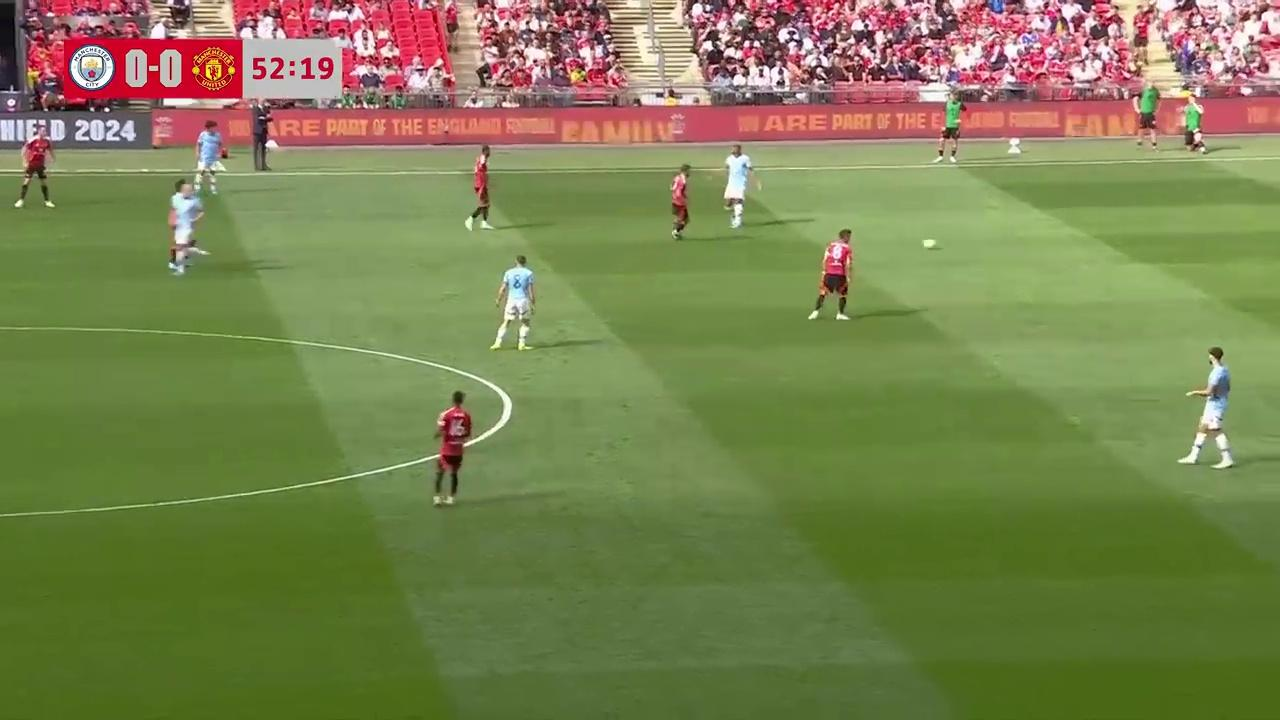ball: (919, 234, 939, 252)
player: (1177, 347, 1235, 470), (430, 390, 473, 508), (807, 229, 854, 322), (490, 255, 535, 352), (14, 128, 55, 208), (167, 179, 201, 275), (723, 145, 761, 229), (465, 147, 491, 232), (193, 126, 221, 196), (670, 165, 691, 241)
